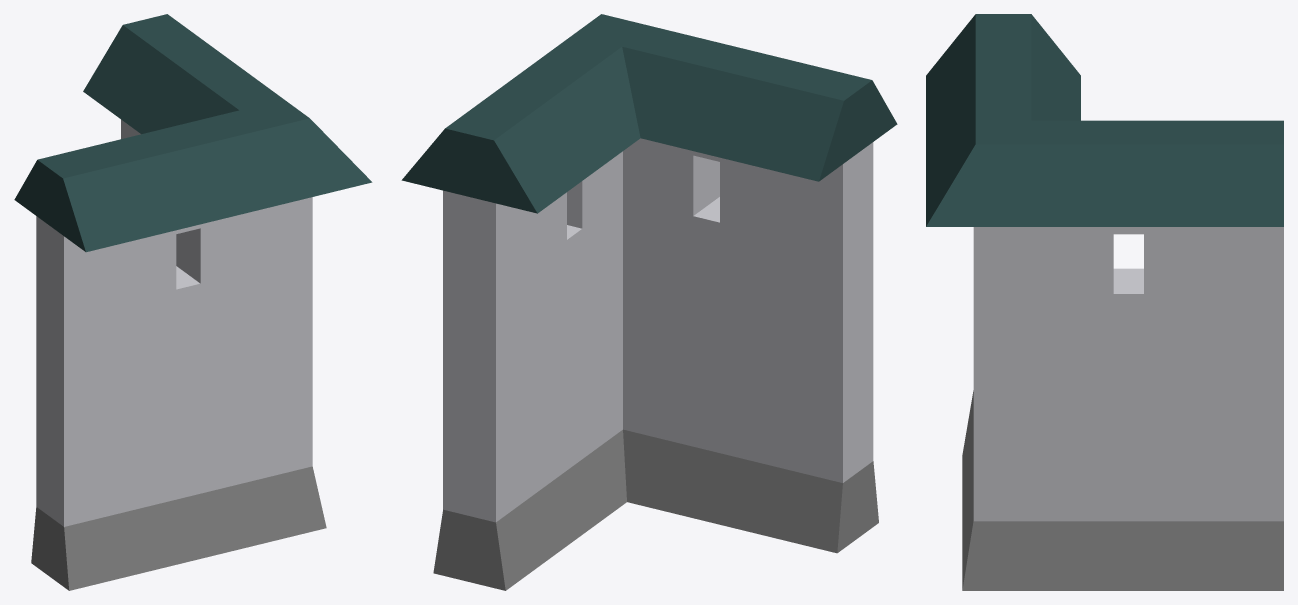
Rendered from Asian_Prop_Building_Fence_Wall_Simple_Corner_Embrasure_02.FBX.
3 views of the same model, side by side, from view 1: azimuth 30°, elevation 25°; view 2: azimuth 150°, elevation 25°; view 3: azimuth 270°, elevation 25° (orthographic). The views are drawn at different scales.
Visible parts, largest first — view 1: Asian_Prop_Building_Fence_Wall_Simple_Corner_Embrasure_02; view 2: Asian_Prop_Building_Fence_Wall_Simple_Corner_Embrasure_02; view 3: Asian_Prop_Building_Fence_Wall_Simple_Corner_Embrasure_02.
Part boxes in pixels (x1,y1,x2,y2): Asian_Prop_Building_Fence_Wall_Simple_Corner_Embrasure_02: [14, 14, 372, 590]; Asian_Prop_Building_Fence_Wall_Simple_Corner_Embrasure_02: [401, 14, 897, 590]; Asian_Prop_Building_Fence_Wall_Simple_Corner_Embrasure_02: [926, 14, 1283, 590].
Size of the model in its own units: 2979 by 4051 by 2979.
